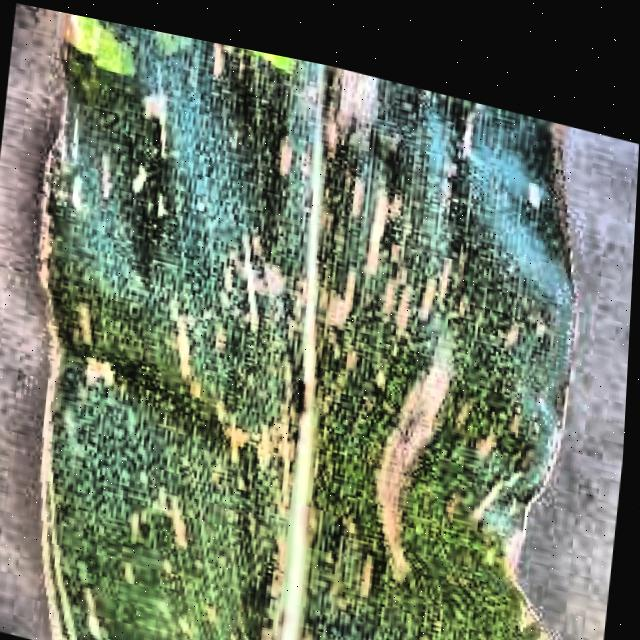gray_spot: (4, 7, 610, 640)
